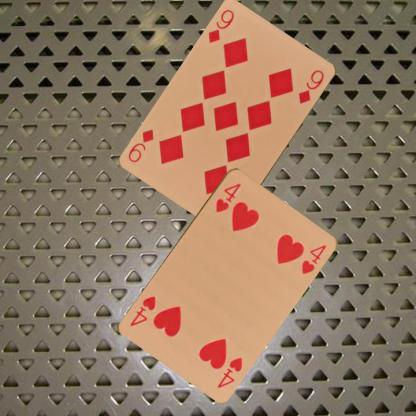4h: (214, 354, 244, 390), (213, 180, 242, 214)
9d: (205, 7, 236, 45)
